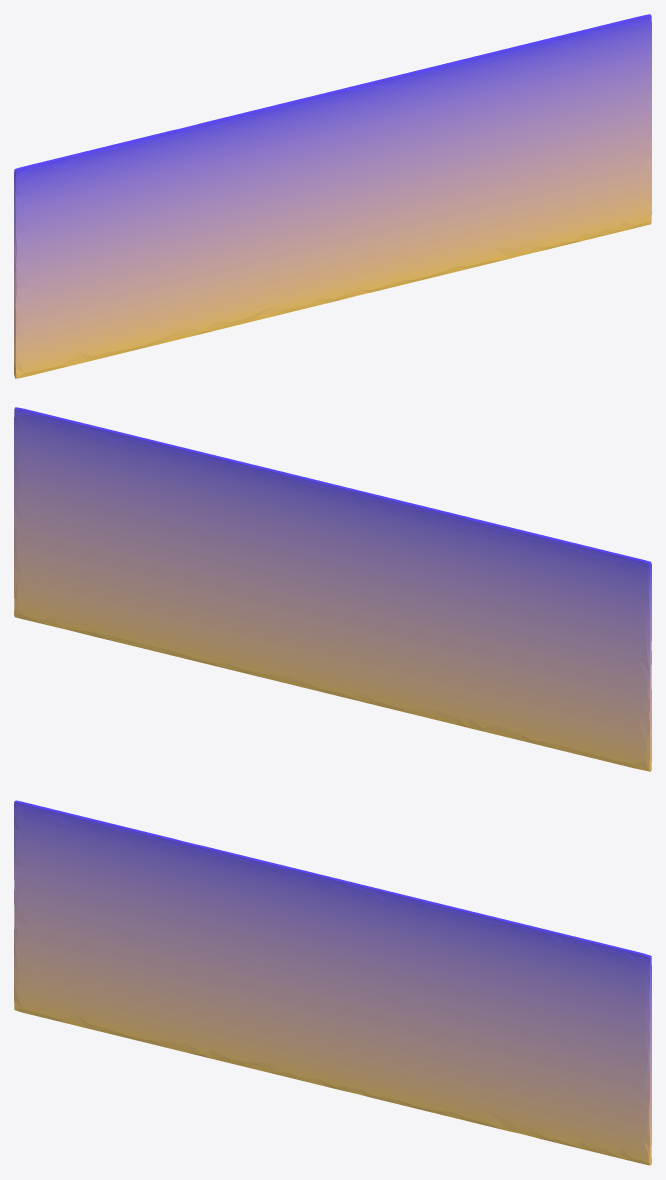
The model's file is 13_cyb_laser_gradient_fish_scales_2958_2026_10_03_75918a.glb.
The picture shows the model from 3 angles, top to bottom: view 1: azimuth 30°, elevation 25°; view 2: azimuth 150°, elevation 25°; view 3: azimuth 330°, elevation 25°; orthographic projection.
Parts seen in each view (by area): view 1: geometry_0; view 2: geometry_0; view 3: geometry_0.
Boxes of the visible parts, x1,y1,x2,y2 form: geometry_0: (14,14,651,378); geometry_0: (14,407,651,771); geometry_0: (14,800,651,1165).
Size of the model in its own units: 1 by 0.3168 by 0.00692.
